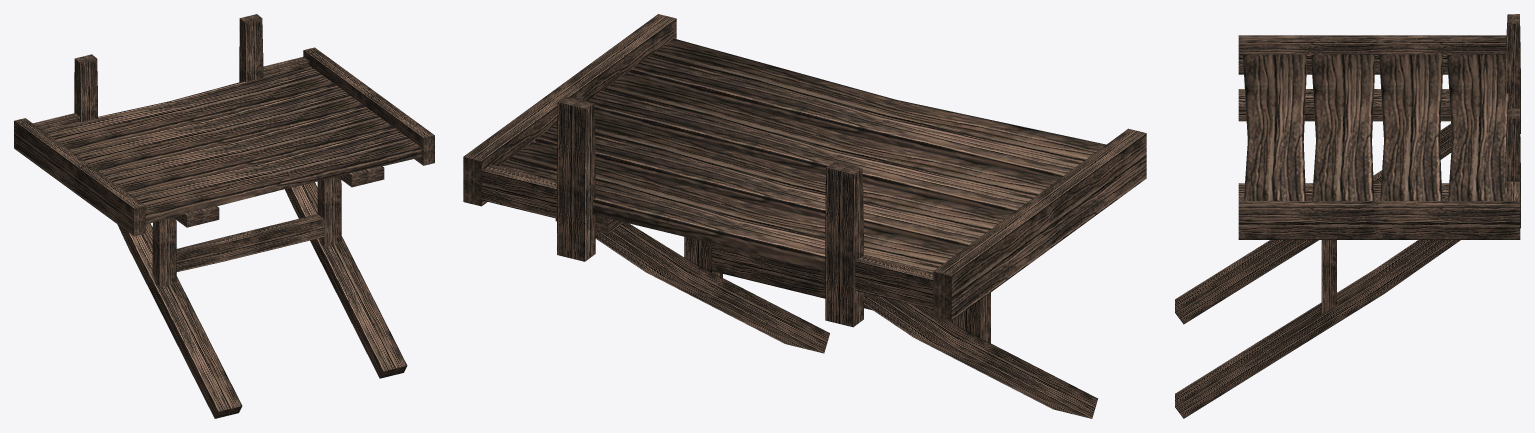
The model's file is CB_LOOKOUT_LDERPLATFORM.fbx.
3 renders of one model, left to right at view 1: azimuth 30°, elevation 25°; view 2: azimuth 150°, elevation 25°; view 3: azimuth 270°, elevation 25°, orthographic. The views are drawn at different scales.
Visible parts, largest first — view 1: CB_LOOKOUT_LDERPLATFORM; view 2: CB_LOOKOUT_LDERPLATFORM; view 3: CB_LOOKOUT_LDERPLATFORM.
Part boxes in pixels (box(x1,y1,x2,y2)): CB_LOOKOUT_LDERPLATFORM: box(14, 14, 434, 418); CB_LOOKOUT_LDERPLATFORM: box(463, 14, 1146, 418); CB_LOOKOUT_LDERPLATFORM: box(1175, 14, 1520, 418).
Size of the model in its own units: 26035 by 21082 by 22119.
Materials: 1 (1 with a texture image).
